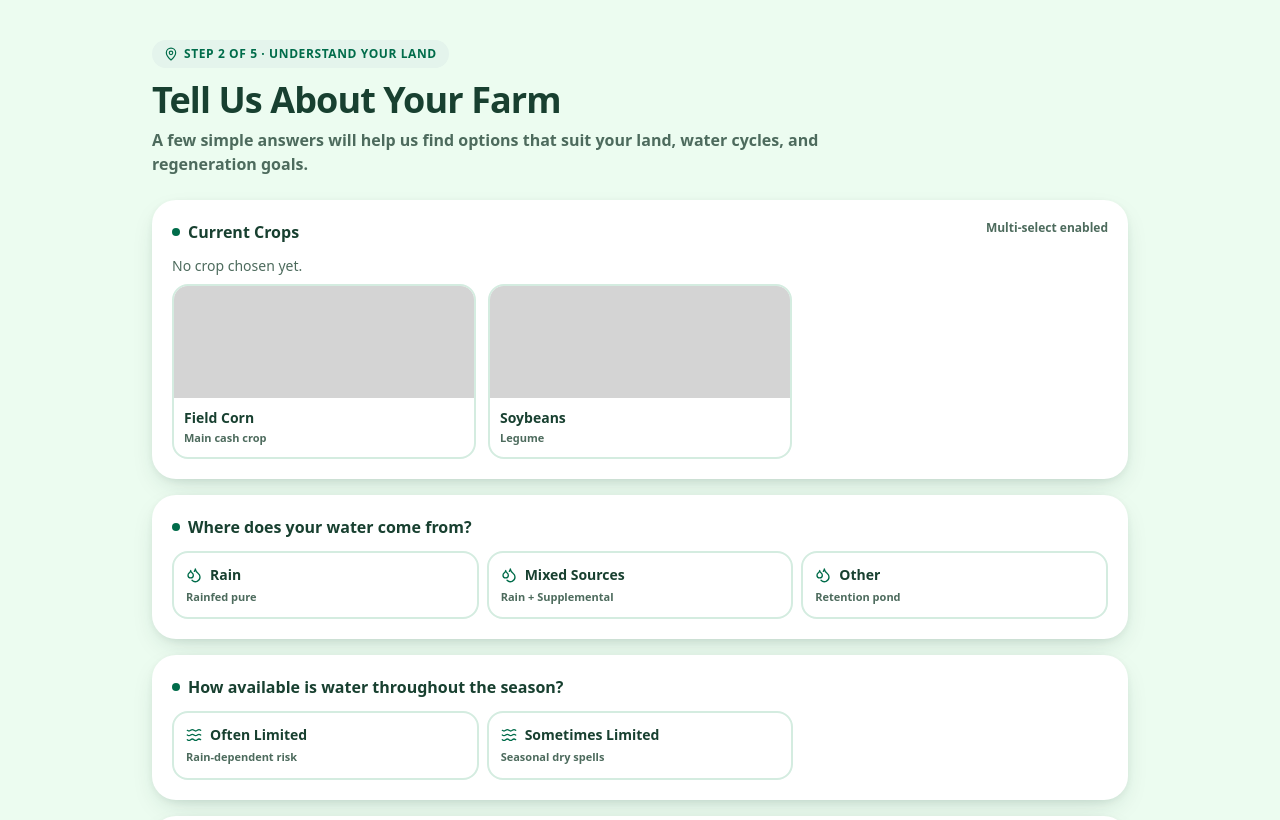
Test: my farm › shows the water source note only for the "other" source
The width and height of the screenshot is (1280, 820).
Step 1. Click the button "Other Retention pond" → coordinates (860, 574), box 801,550 -> 1108,619
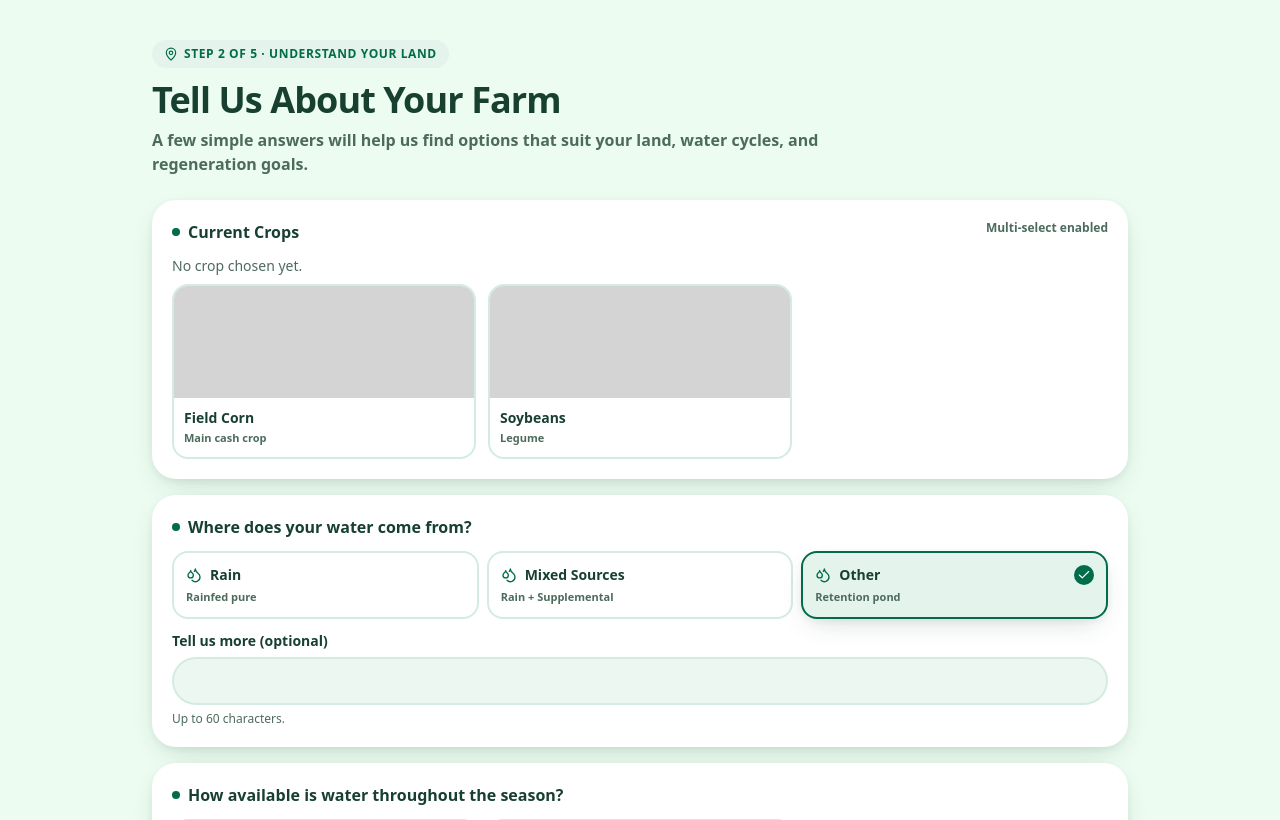
Expected: the field with id "farm-water-other" is shown, 172,657 -> 1108,705
Step 2. Click the button "Rain Rainfed pure" → coordinates (226, 574), box 172,550 -> 479,619
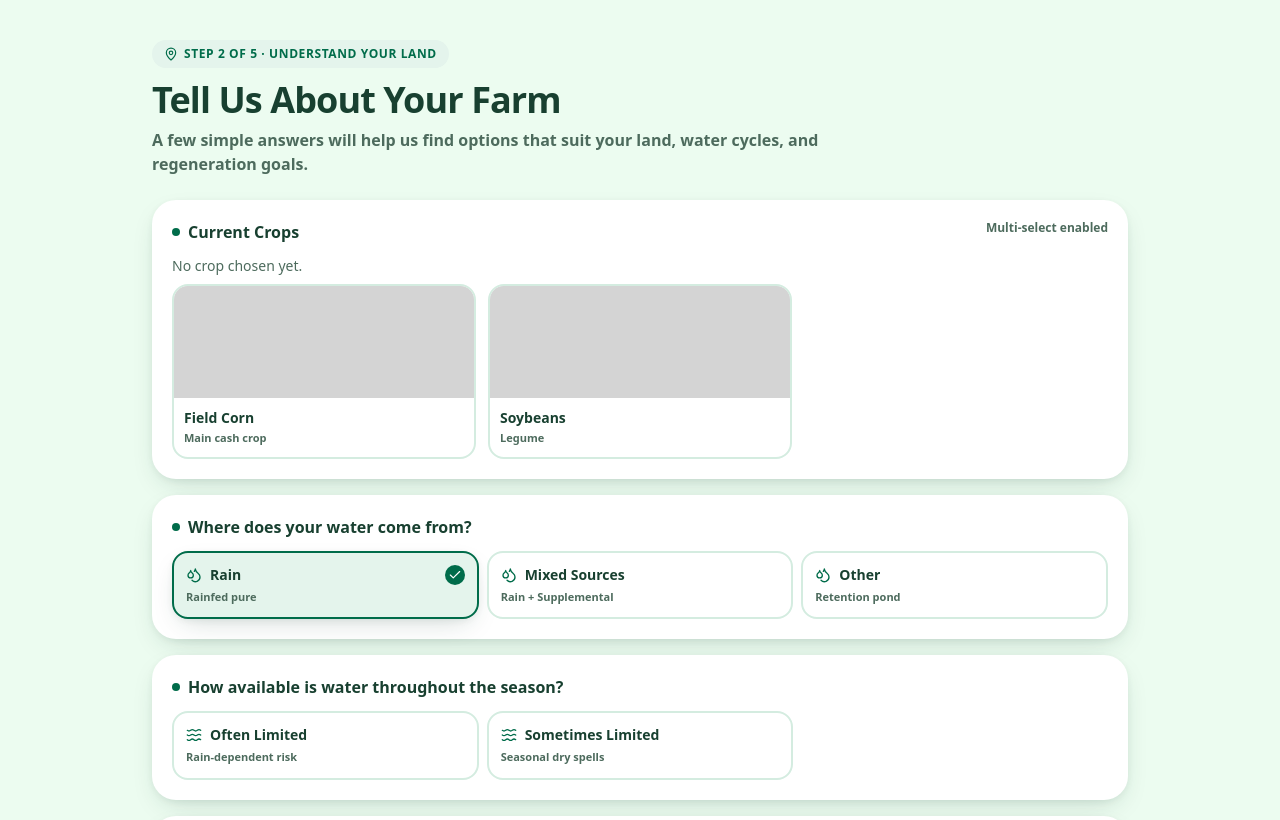
Expected: the label with id "farm-water-other" is gone
